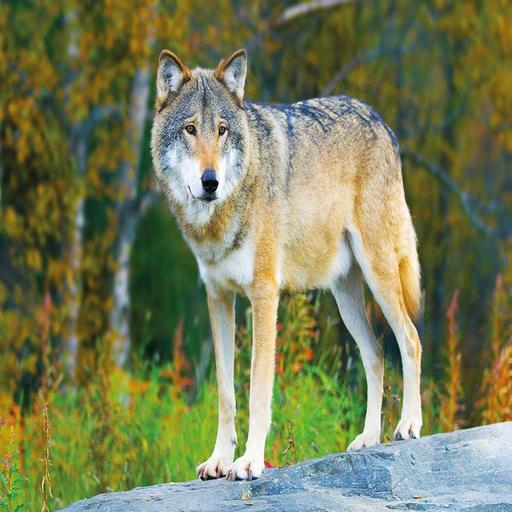Wolf: (149, 43, 425, 485)
